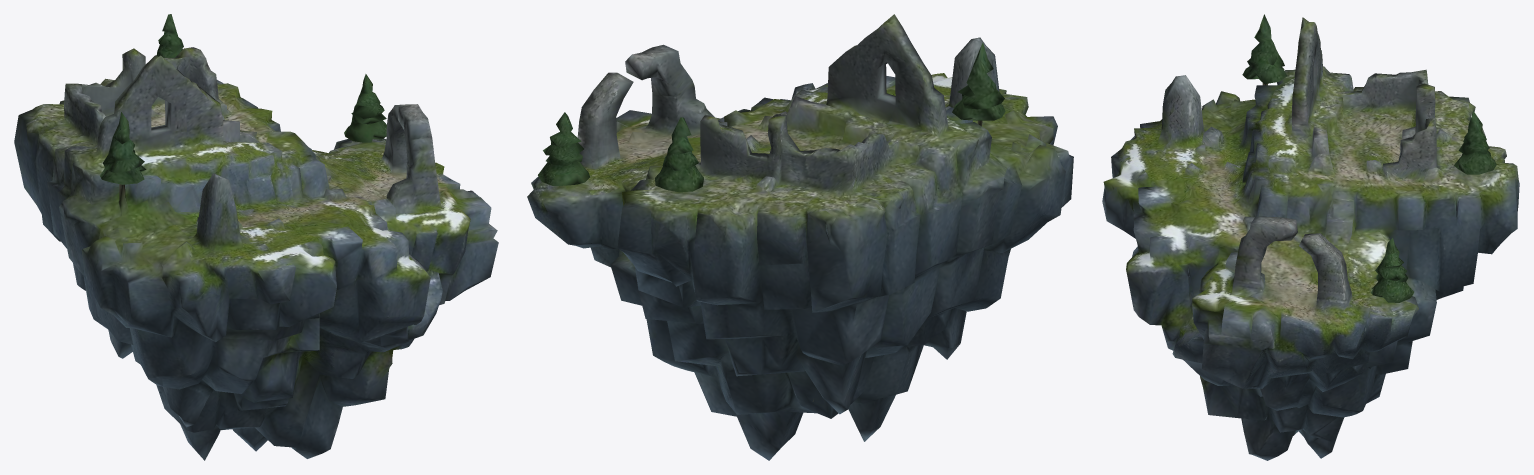
File: island-ruins.glb
The picture shows the model from 3 angles, left to right: view 1: azimuth 30°, elevation 25°; view 2: azimuth 150°, elevation 25°; view 3: azimuth 270°, elevation 25°; orthographic projection. The views are drawn at different scales.
Parts seen in each view (by area): view 1: tripo_node_ee34f58c-b084-4f7b-87ca-3a164ed5b7cf; view 2: tripo_node_ee34f58c-b084-4f7b-87ca-3a164ed5b7cf; view 3: tripo_node_ee34f58c-b084-4f7b-87ca-3a164ed5b7cf.
Part boxes in pixels (left/top/right/bottom): tripo_node_ee34f58c-b084-4f7b-87ca-3a164ed5b7cf: left=14, top=14, right=498, bottom=460; tripo_node_ee34f58c-b084-4f7b-87ca-3a164ed5b7cf: left=527, top=14, right=1073, bottom=460; tripo_node_ee34f58c-b084-4f7b-87ca-3a164ed5b7cf: left=1102, top=14, right=1519, bottom=460.
Bounding box in the file's own units: 0.9911 × 1 × 0.9583.
1 material, 1 textured.
